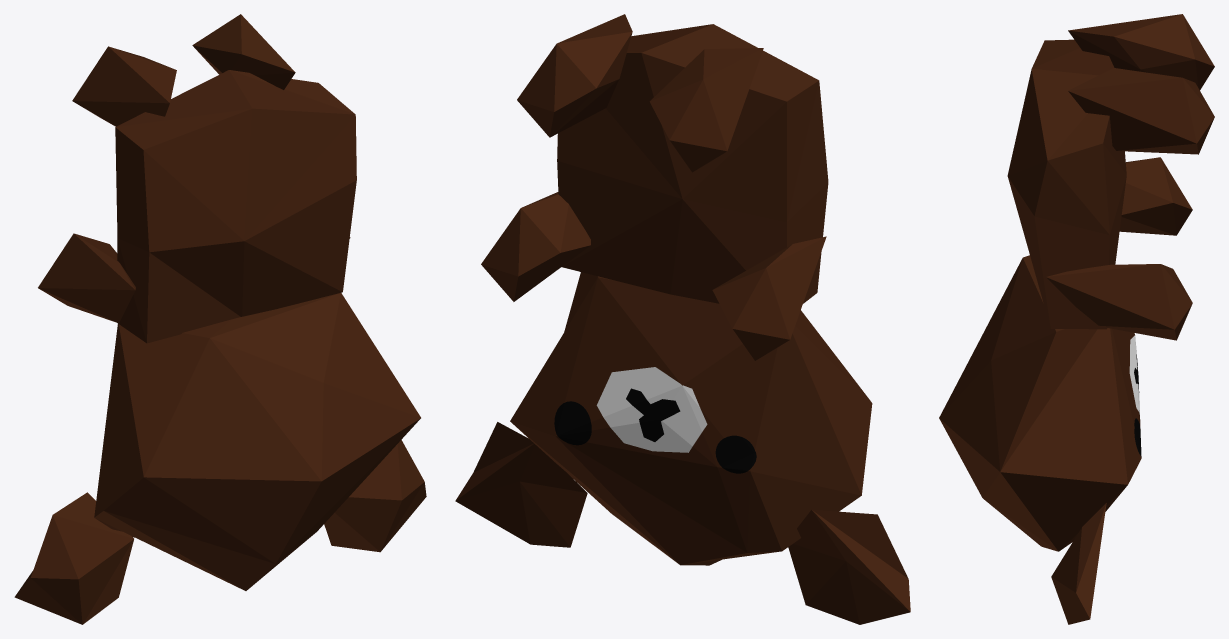
Rendered from Teddy.FBX.
3 views of the same model, side by side, from view 1: azimuth 30°, elevation 25°; view 2: azimuth 150°, elevation 25°; view 3: azimuth 270°, elevation 25° (orthographic). The views are drawn at different scales.
Visible parts, largest first — view 1: Object002; view 2: Object002; view 3: Object002.
Boxes of the visible parts, left/top/right/bottom form: Object002: left=14, top=14, right=426, bottom=624; Object002: left=455, top=14, right=910, bottom=624; Object002: left=939, top=14, right=1214, bottom=624.
Size of the model in its own units: 125 by 150 by 73.62.
